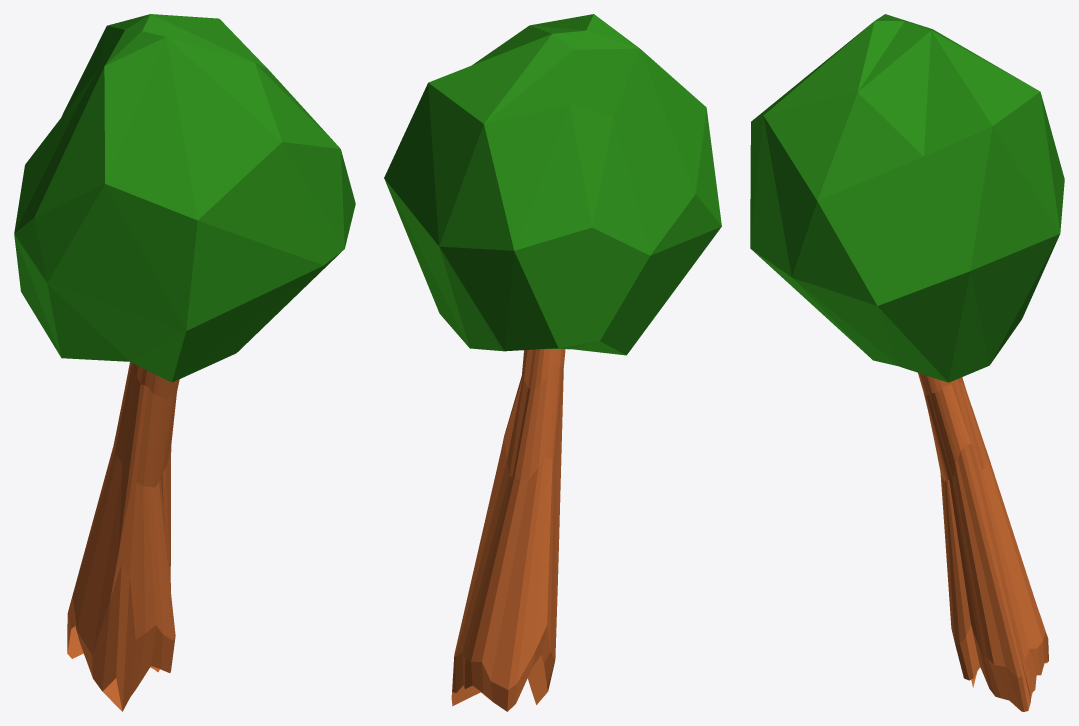
Rendered from treebyme2.glb.
3 renders of one model, left to right at view 1: azimuth 30°, elevation 25°; view 2: azimuth 150°, elevation 25°; view 3: azimuth 270°, elevation 25°, orthographic. The views are drawn at different scales.
Parts seen in each view (by area): view 1: treetop, trunk; view 2: treetop, trunk; view 3: treetop, trunk.
Part boxes in pixels (box(x1,y1,x2,y2)): treetop: box(14, 14, 355, 382); trunk: box(67, 362, 179, 711); treetop: box(384, 14, 721, 355); trunk: box(451, 349, 565, 711); treetop: box(750, 14, 1064, 382); trunk: box(918, 373, 1048, 711).
Bounding box in the file's own units: 7.75 × 16.56 × 7.12.
